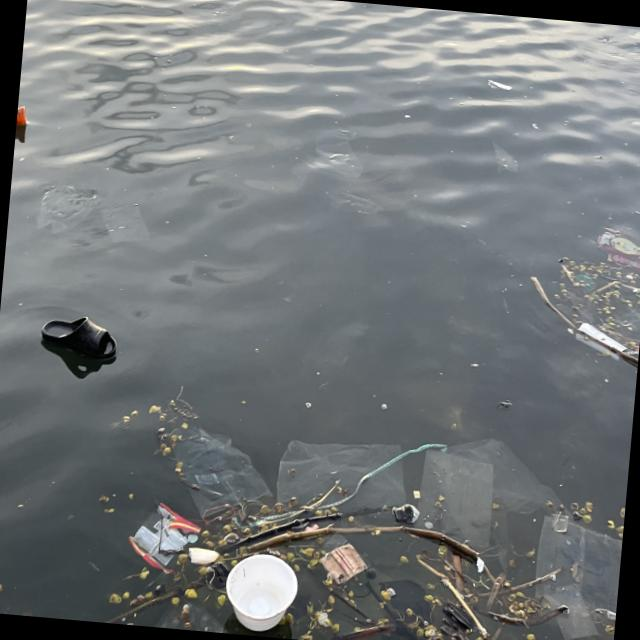foam: (223, 553, 300, 635), (188, 547, 221, 566)
plastic bag: (128, 507, 202, 570)
plastic bottle: (374, 575, 439, 640), (17, 107, 29, 131)
